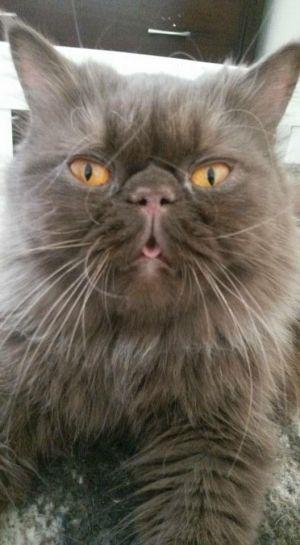persian: (1, 3, 300, 336)
